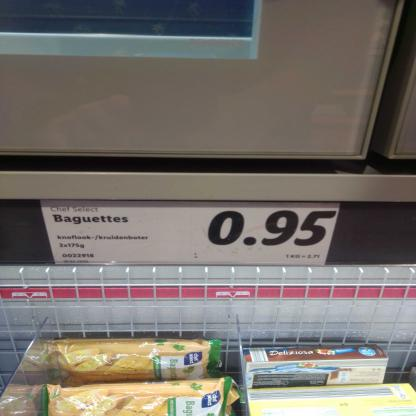prtg: (41, 200, 342, 266)
